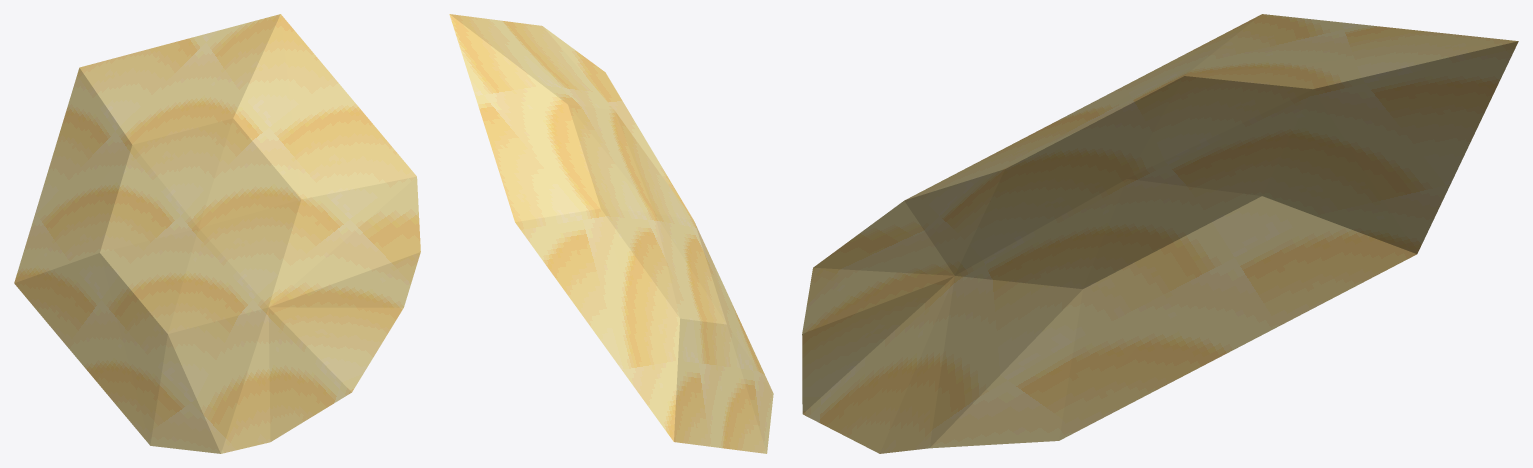
File: 1369item2759r.gltf
3 views of the same model, side by side, from view 1: azimuth 30°, elevation 25°; view 2: azimuth 150°, elevation 25°; view 3: azimuth 270°, elevation 25° (orthographic). The views are drawn at different scales.
Visible parts, largest first — view 1: 1369item2759r; view 2: 1369item2759r; view 3: 1369item2759r.
Boxes of the visible parts, bbox=[...] form: 1369item2759r: bbox=[14, 14, 420, 453]; 1369item2759r: bbox=[449, 14, 773, 453]; 1369item2759r: bbox=[802, 14, 1518, 453].
Size of the model in its own units: 0.2357 by 0.3045 by 0.3379.
Materials: 1 (1 with a texture image).
